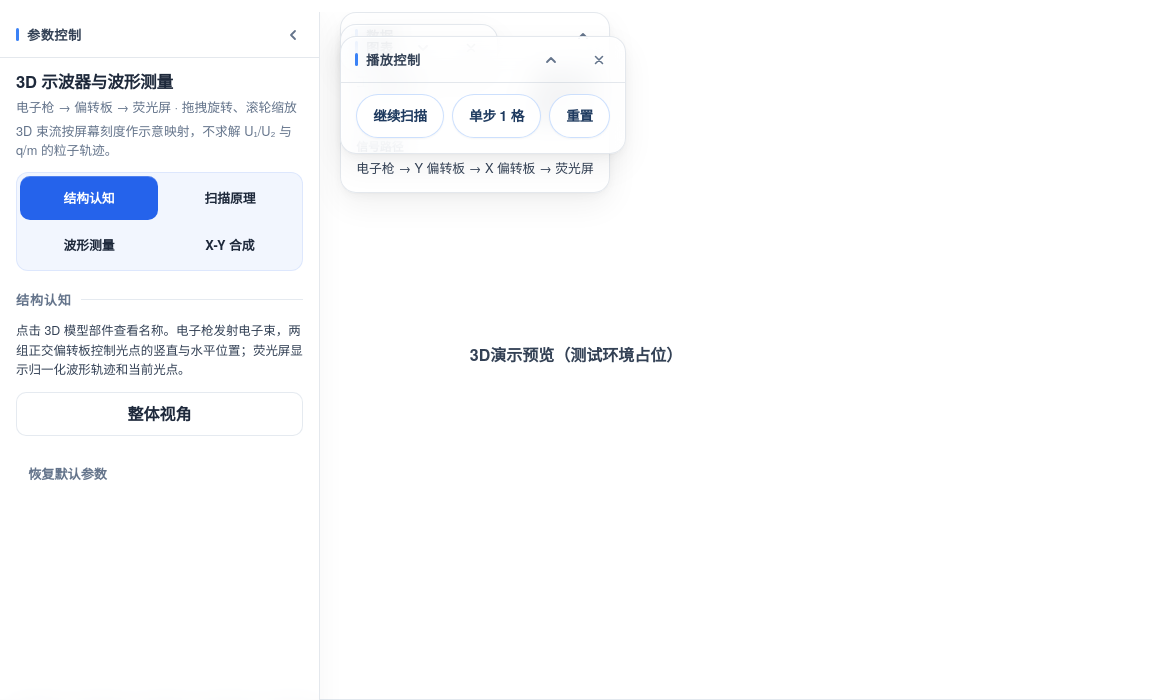
it: oscilloscope-3d structure › switches controls and chart mode without replacing the 3D viewport
Click the radio button labelled "波形测量" at (89, 245), box [20,223,158,267]
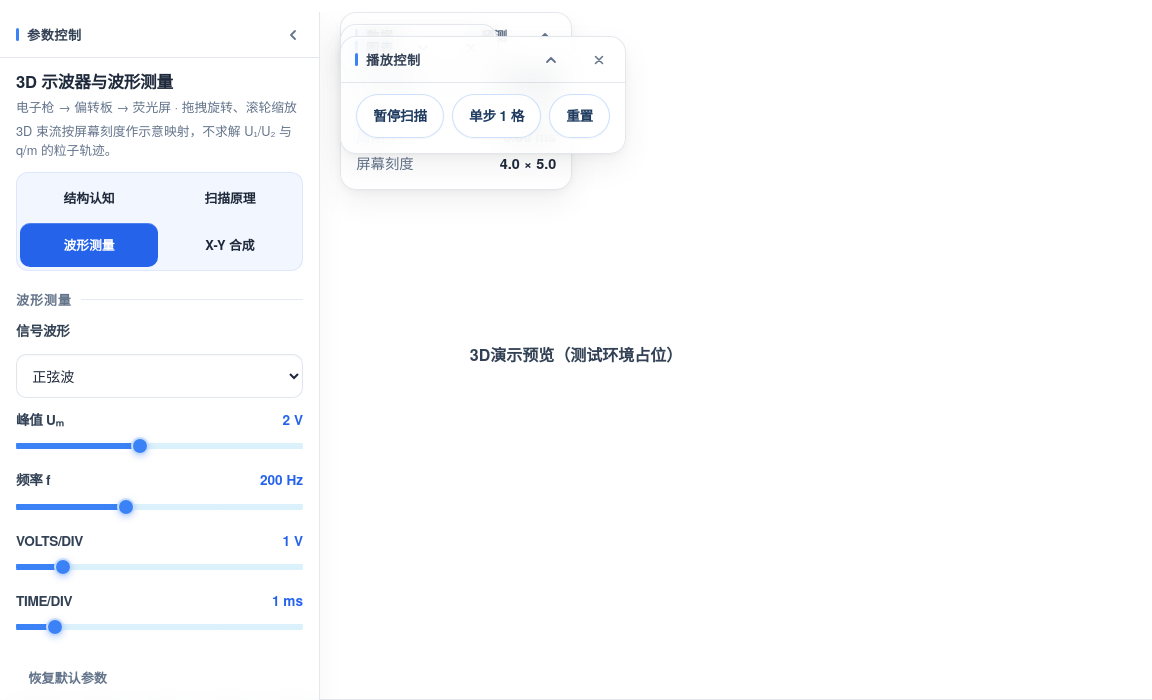
Now the slider labelled "VOLTS/DIV" is shown, box [16,545,303,589]
Click the radio button labelled "X-Y 合成" at (230, 245), box [161,223,299,267]
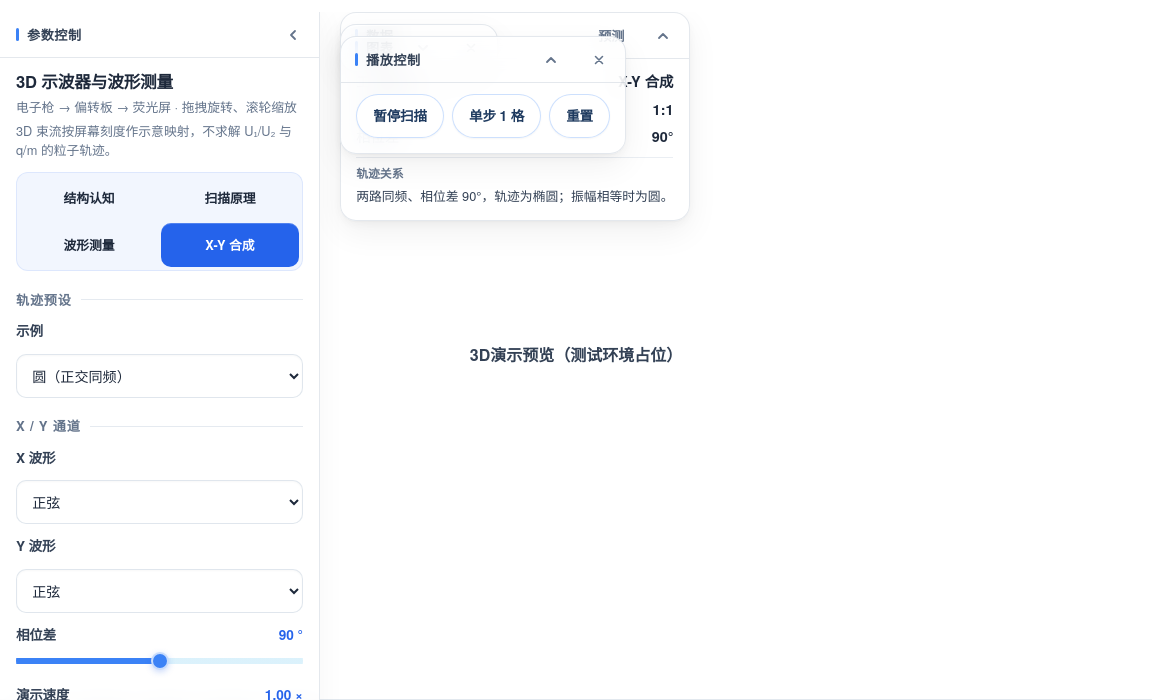
Now the slider labelled "相位差" is shown, box [16,639,303,683]
